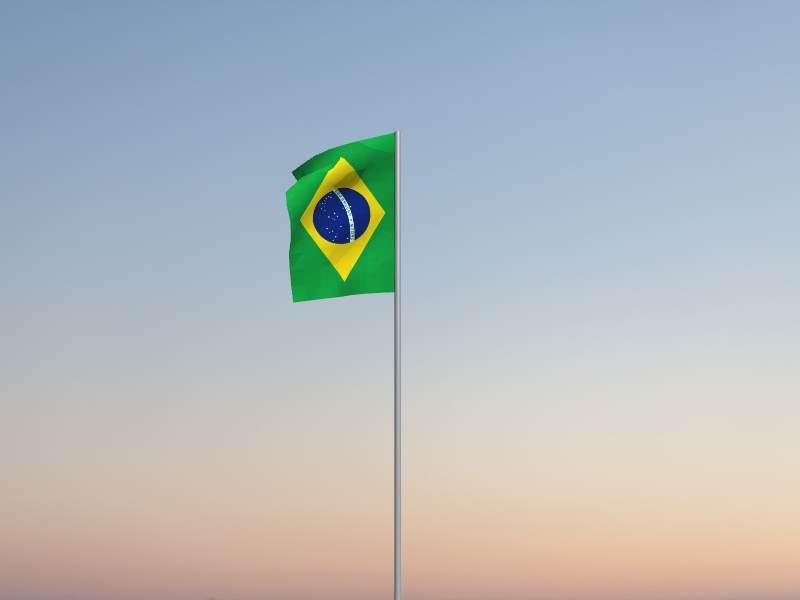br: (285, 134, 395, 305)
